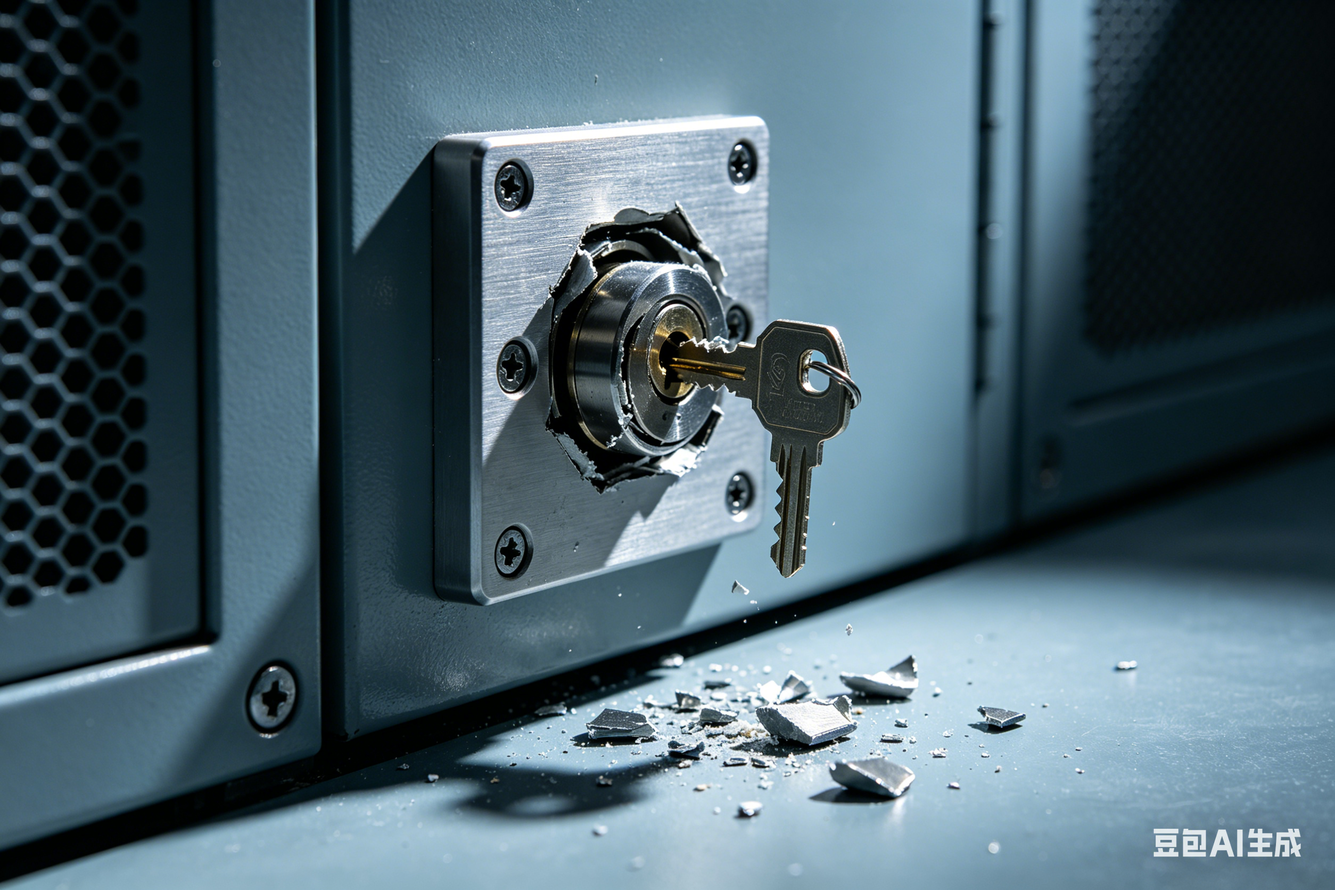BadLock: (537, 215, 760, 486)
